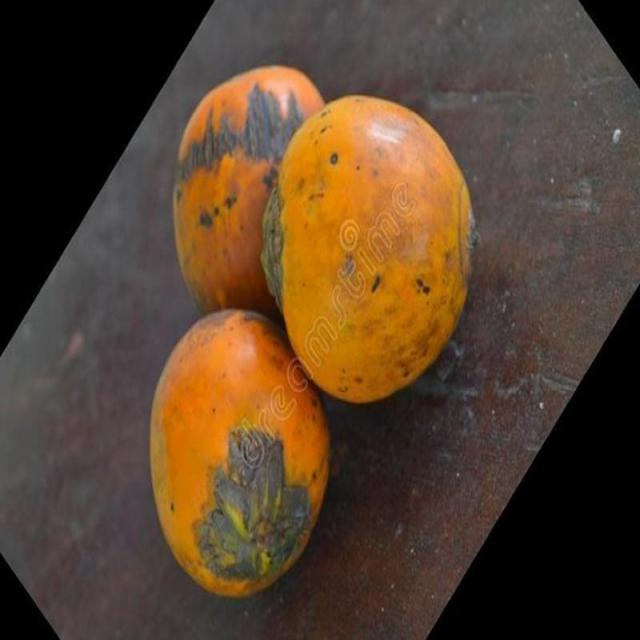good: (261, 95, 474, 407), (149, 310, 331, 600), (172, 66, 325, 320)
